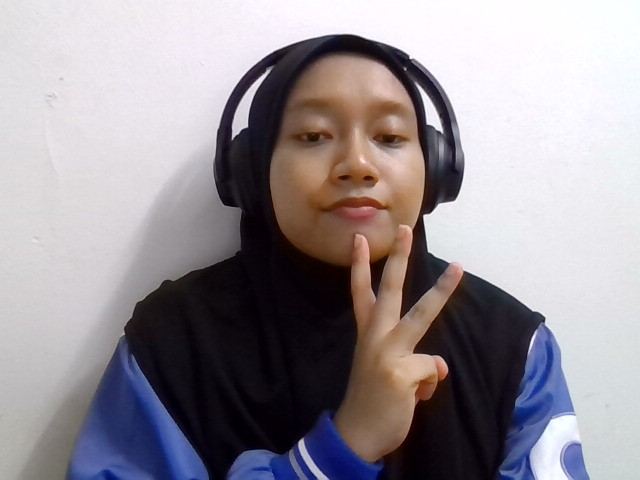Selangor: (319, 194, 464, 447)
